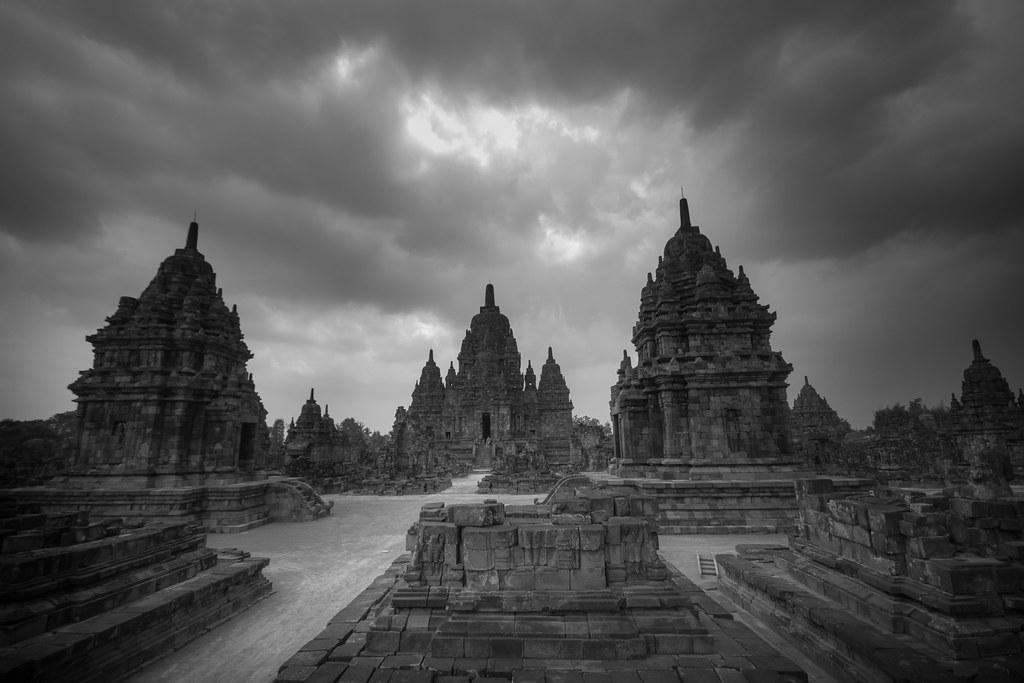temple: (64, 210, 271, 479), (608, 184, 800, 474), (391, 281, 581, 480), (938, 338, 1024, 479), (282, 387, 357, 478), (788, 375, 848, 463)
